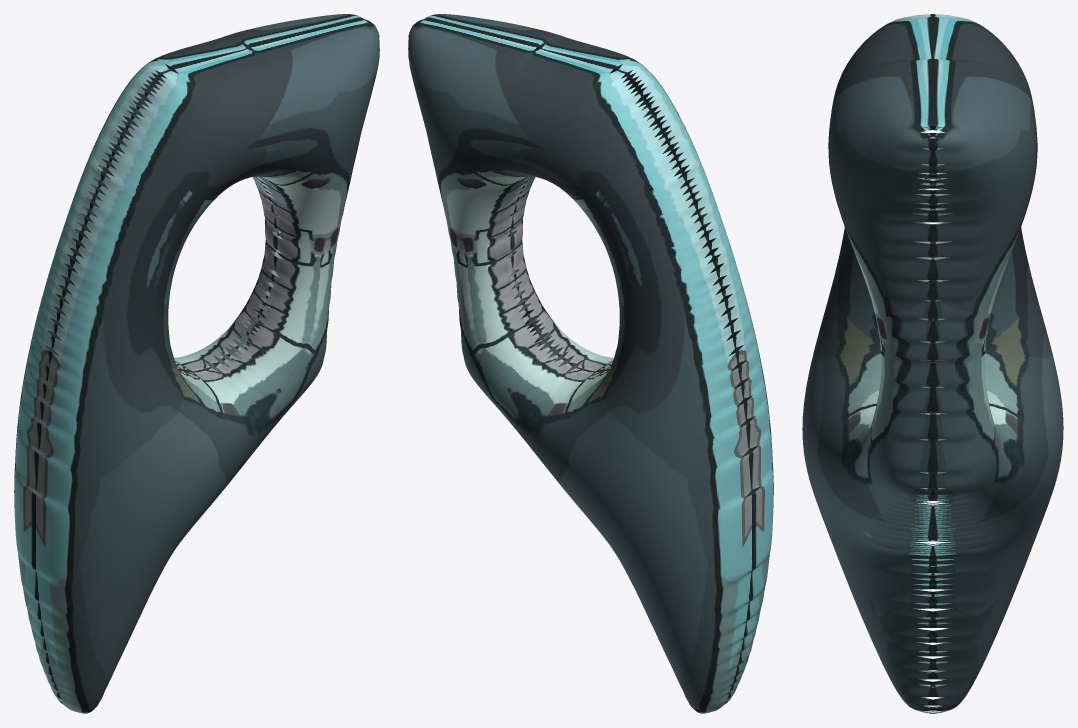
File: side_hull.glb
3 renders of one model, left to right at view 1: azimuth 30°, elevation 25°; view 2: azimuth 150°, elevation 25°; view 3: azimuth 270°, elevation 25°, orthographic. The views are drawn at different scales.
Visible parts, largest first — view 1: side_hull; view 2: side_hull; view 3: side_hull.
Part boxes in pixels (left/top/right/bottom): side_hull: left=14, top=14, right=379, bottom=713; side_hull: left=408, top=14, right=773, bottom=713; side_hull: left=802, top=14, right=1063, bottom=713.
Size of the model in its own units: 0.9806 by 1.73 by 0.5404.
Materials: 1 (1 with a texture image).
